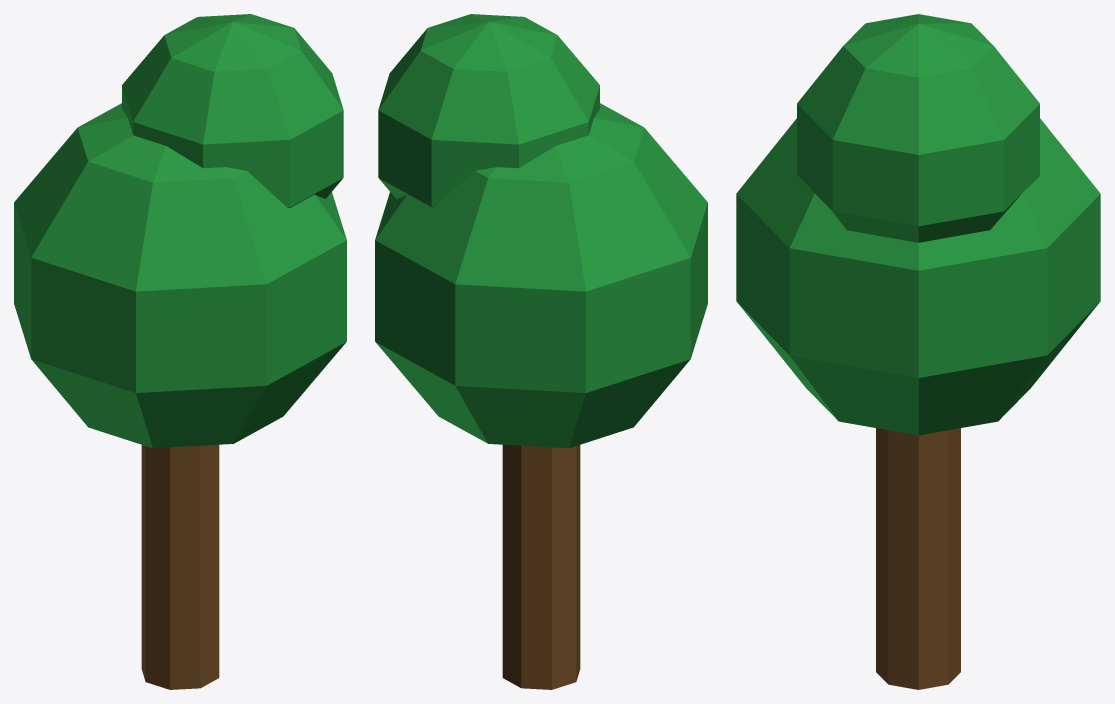
Rendered from Tree.obj.
3 renders of one model, left to right at view 1: azimuth 30°, elevation 25°; view 2: azimuth 150°, elevation 25°; view 3: azimuth 270°, elevation 25°, orthographic. The views are drawn at different scales.
Parts seen in each view (by area): view 1: Tree; view 2: Tree; view 3: Tree.
Part boxes in pixels (bbox=[...]): Tree: bbox=[14, 14, 346, 689]; Tree: bbox=[375, 14, 707, 689]; Tree: bbox=[736, 14, 1100, 689].
Bounding box in the file's own units: 1.73 × 3.5 × 1.71.
